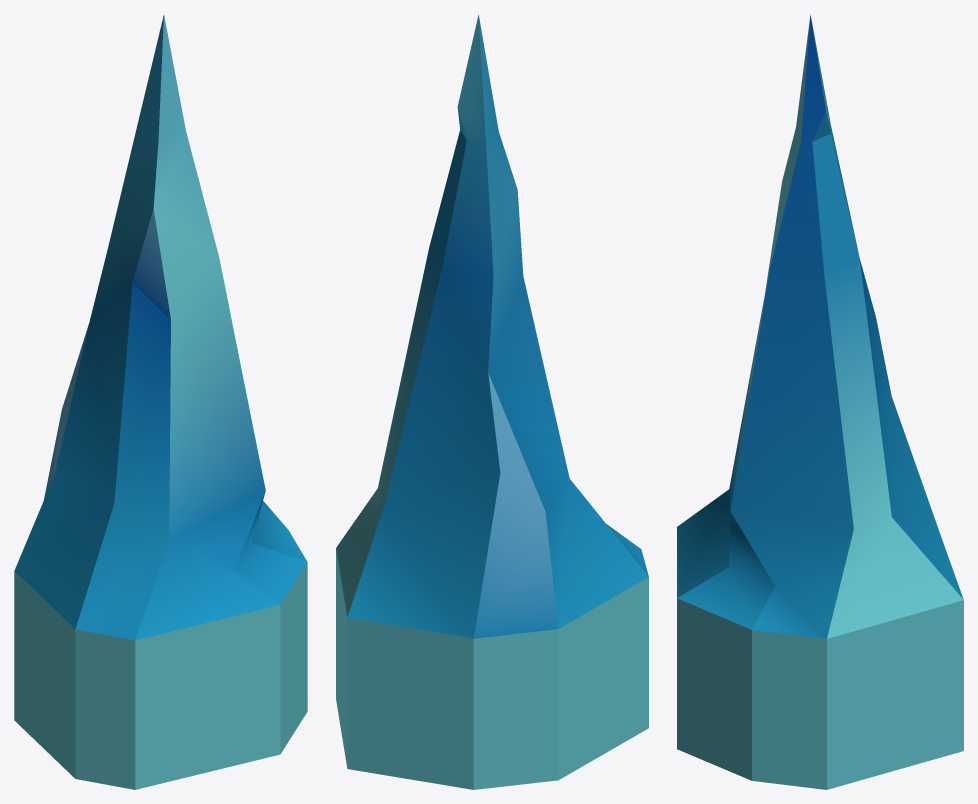
File: PRJ_IceSpike.fbx
3 views of the same model, side by side, from view 1: azimuth 30°, elevation 25°; view 2: azimuth 150°, elevation 25°; view 3: azimuth 270°, elevation 25° (orthographic).
Visible parts, largest first — view 1: PRJ_Ice; view 2: PRJ_Ice; view 3: PRJ_Ice.
Part boxes in pixels (x1,y1,x2,y2): PRJ_Ice: [14, 15, 307, 789]; PRJ_Ice: [336, 15, 648, 789]; PRJ_Ice: [677, 14, 963, 789].
Bounding box in the file's own units: 45.71 × 118 × 43.04.
